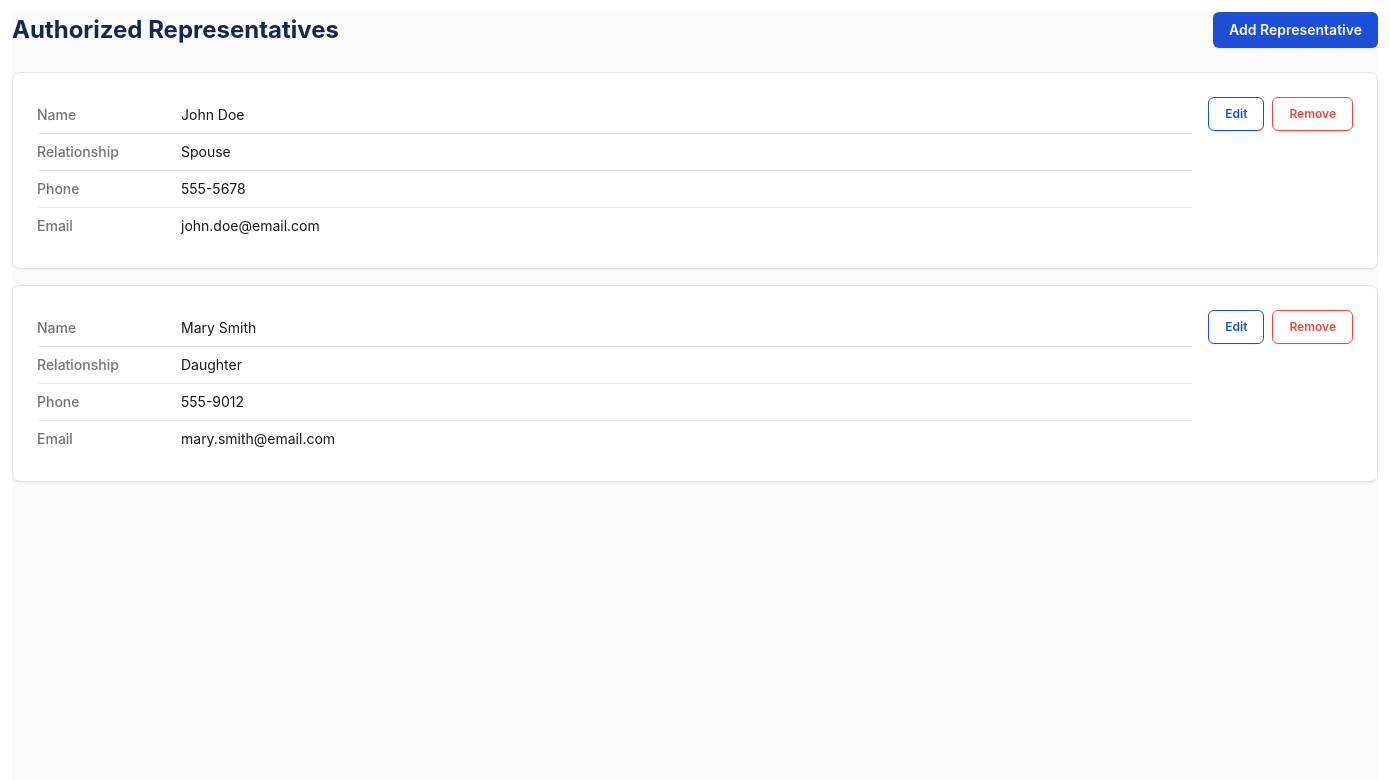
Scenario: RepresentativesPage › shows validation errors when adding with empty required fields
The image size is (1390, 780).
Click the button "Add Representative": (1296, 30) [1213,12,1378,48]
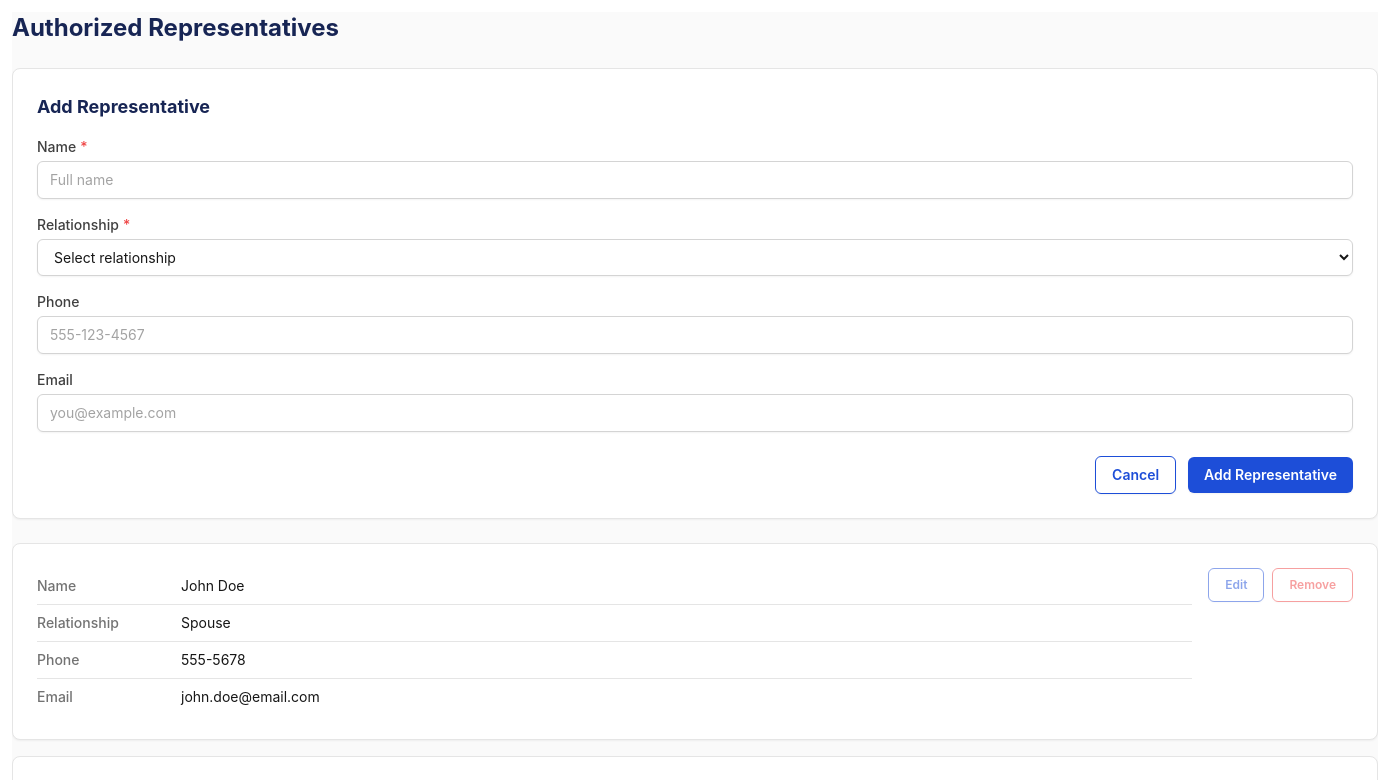
Note: Submit without filling in any fields
Click the button "Add Representative": (1271, 475) [1188,457,1353,493]
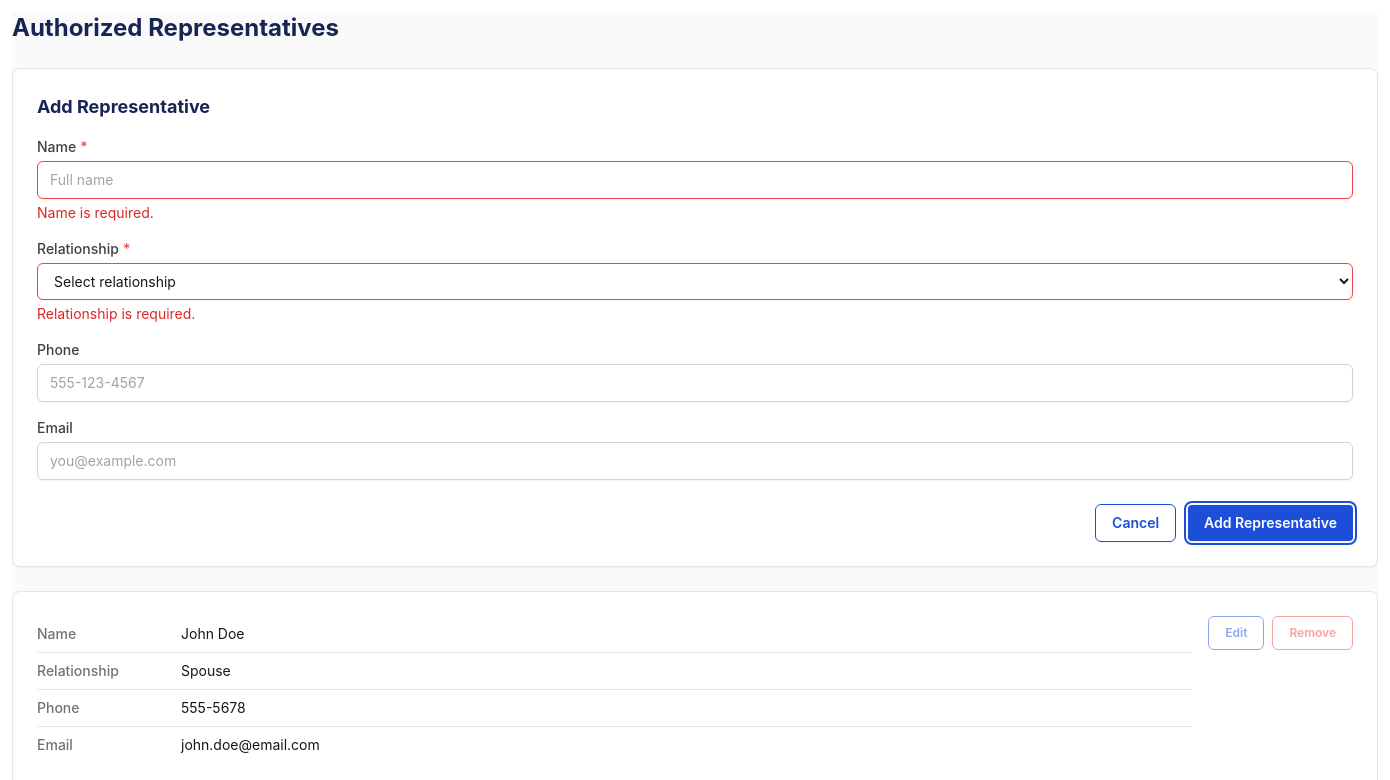
Result: the text "Name is required." is shown at [37,204,154,221]
Result: the text "Relationship is required." is shown at [37,305,195,322]
